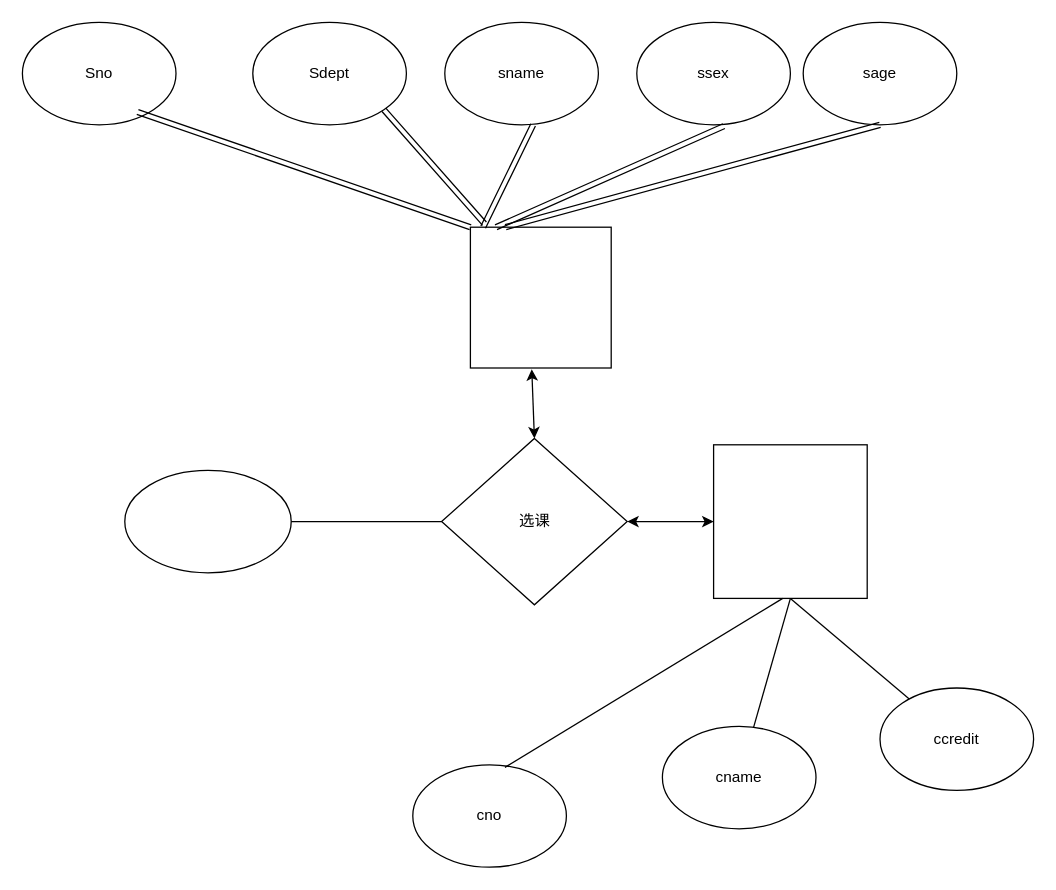
The diagram is 1056 pixels wide and 890 high, and some of its shapes have lost their labels. The shapes that lost their labels are listed below. From the top down, each one's centre as x and y in pixels, then its label:
At (x=540, y=297): "学生".
At (x=207, y=521): "Grade".
At (x=789, y=521): "课程".
